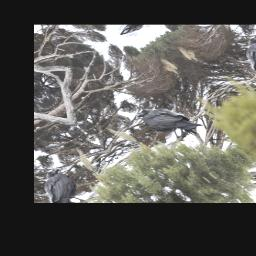Crow: (133, 94, 209, 151)
